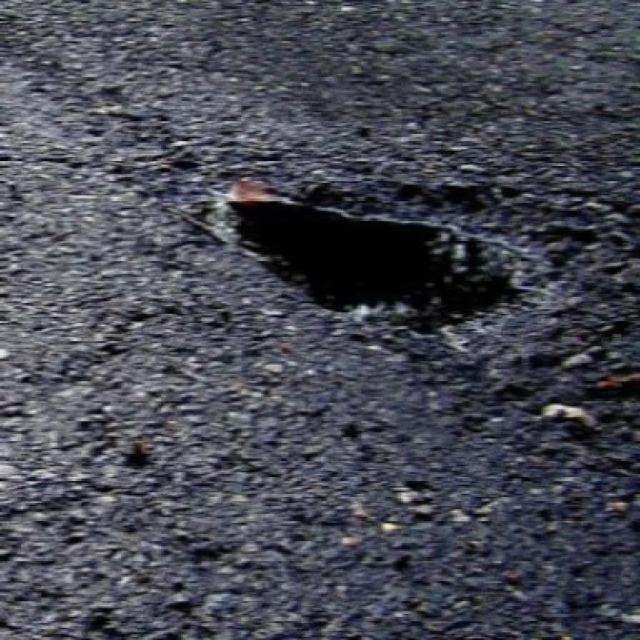Pothole: (170, 153, 578, 357)
